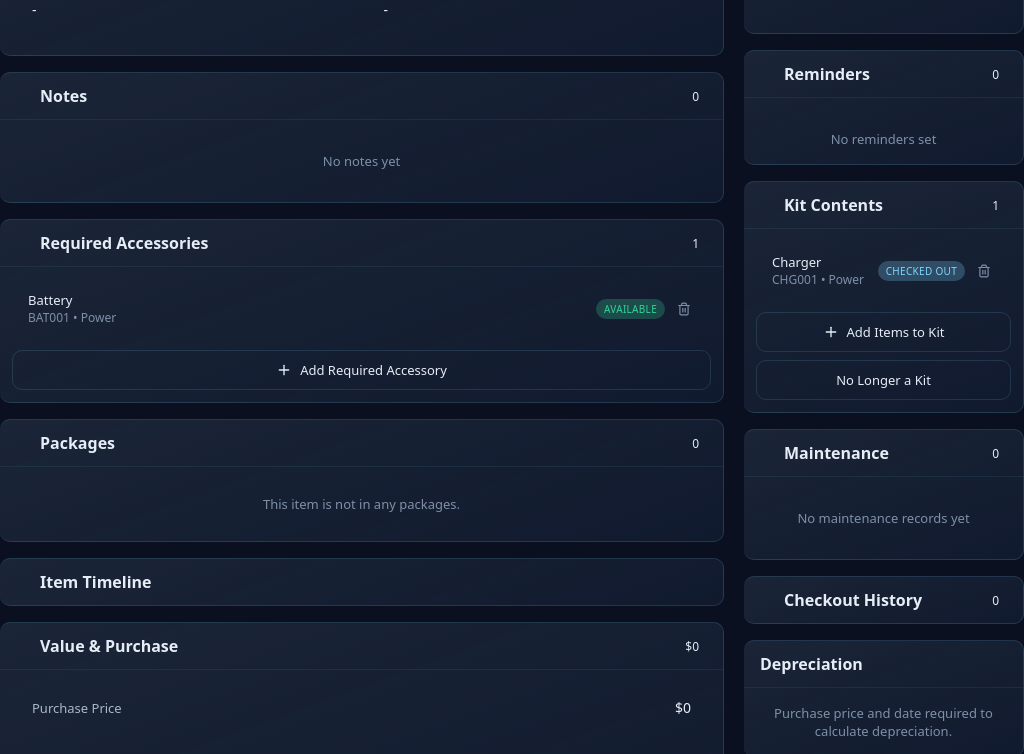
it: add panel (accessories) › excludes self, current members, and kits; search narrows; Add (n) submits
(page scrolled)
Click the button "Add Required Accessory".
click(362, 370)  # box [12,350,711,390]
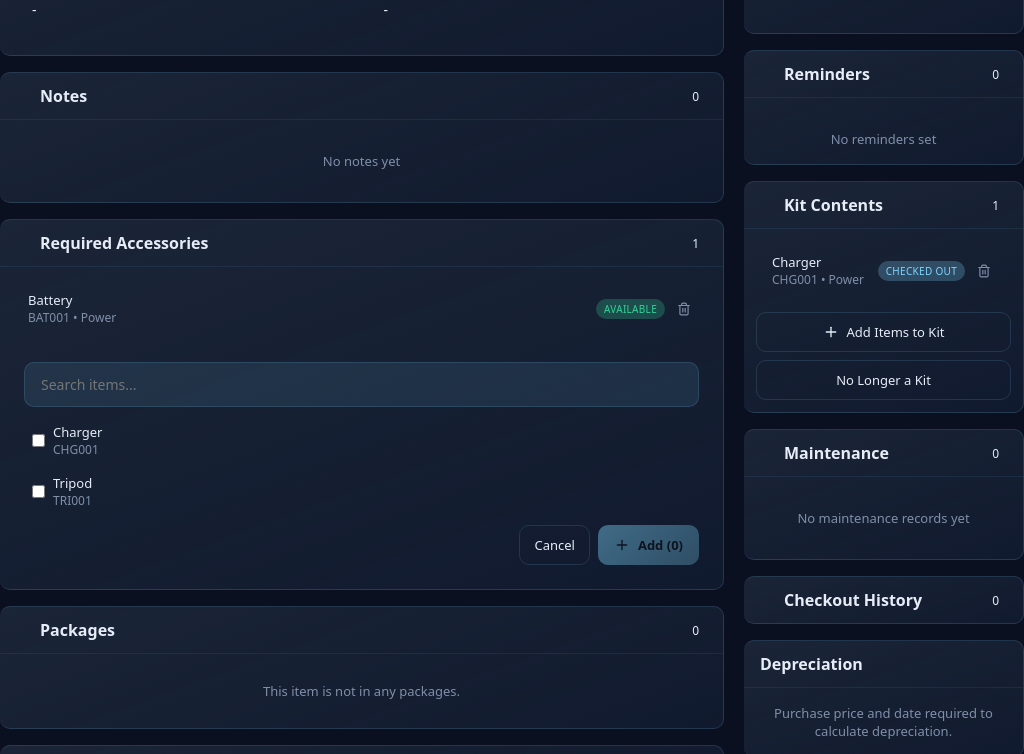
expect the text "Tripod" is shown: met, box [53,474,92,492]
expect the text "Charger" is shown 2 times: met, box [53,423,102,441]; [772,253,822,271]
expect the text "Battery" is shown once: met, box [28,291,72,309]
Type "tri" into the field with placeholder "Search items...".
click(362, 384); type("tri")  # box [24,362,699,407]
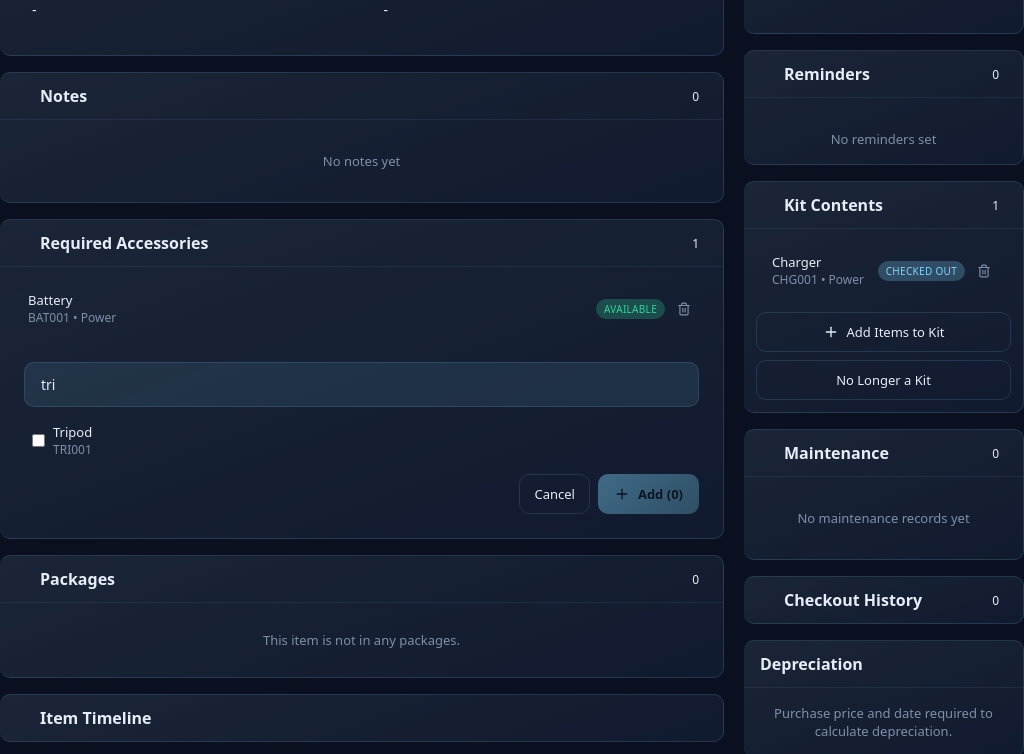
expect the text "Charger" is shown once: met, box [772,253,822,271]
Click the checkbox.
click(38, 440)  # box [32,434,45,447]
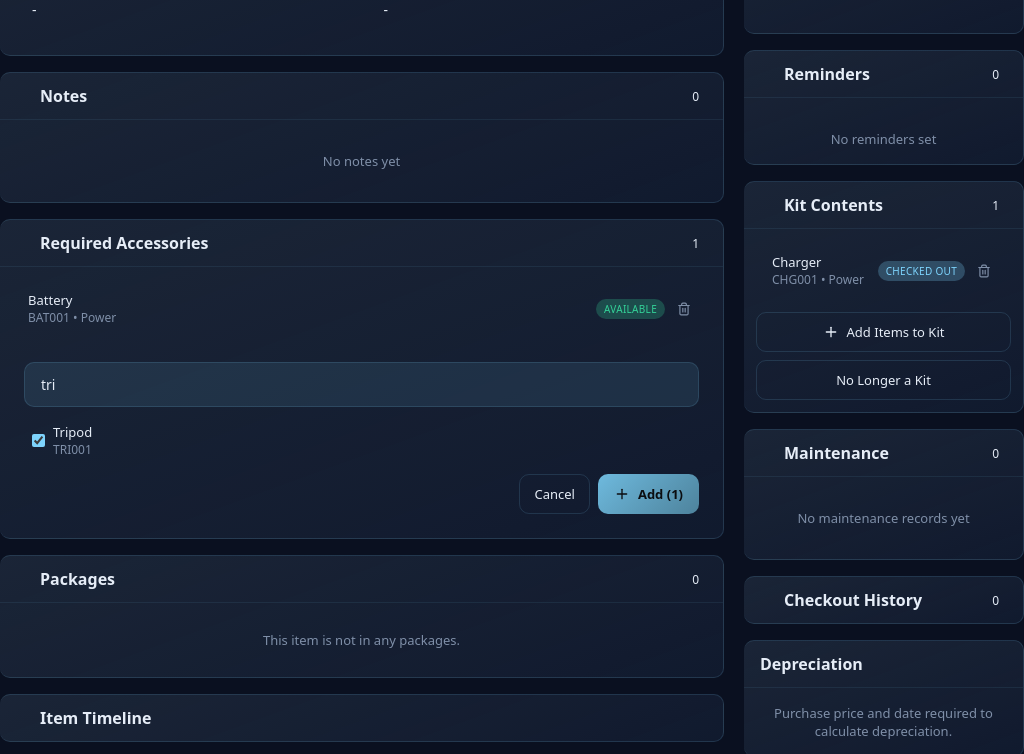
expect the button "Add (1)" is enabled: met
Click the button "Add (1)".
click(648, 494)  # box [598,474,699,514]
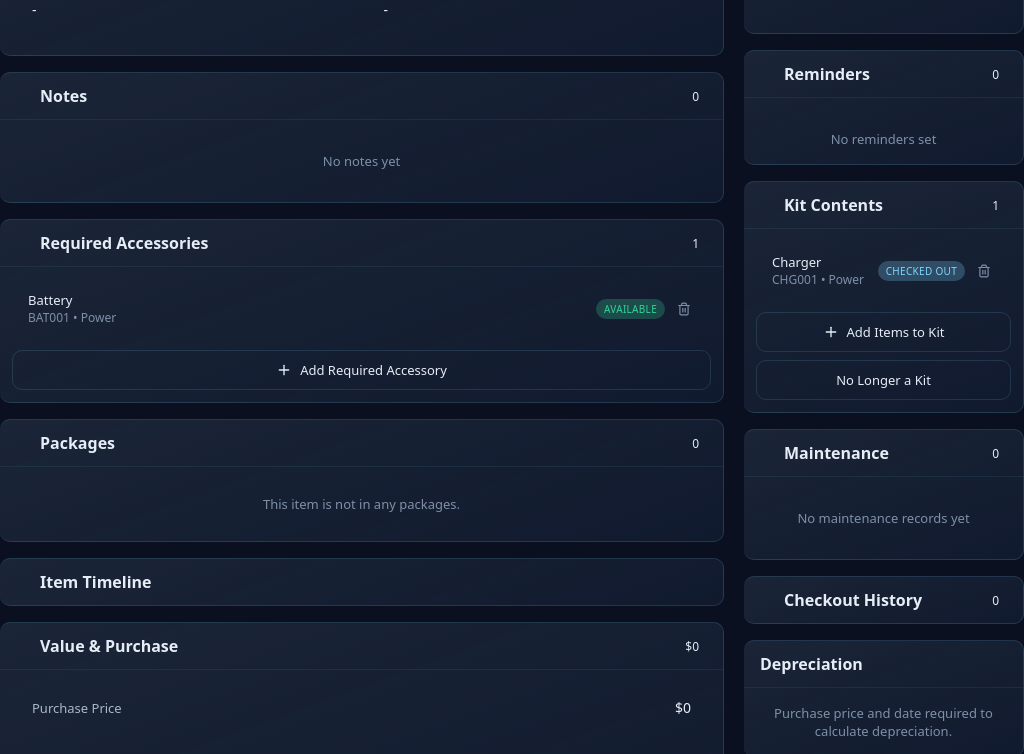
expect the field with placeholder "Search items..." is not shown: met
expect the button "Add Required Accessory" is shown: met, box [12,350,711,390]
